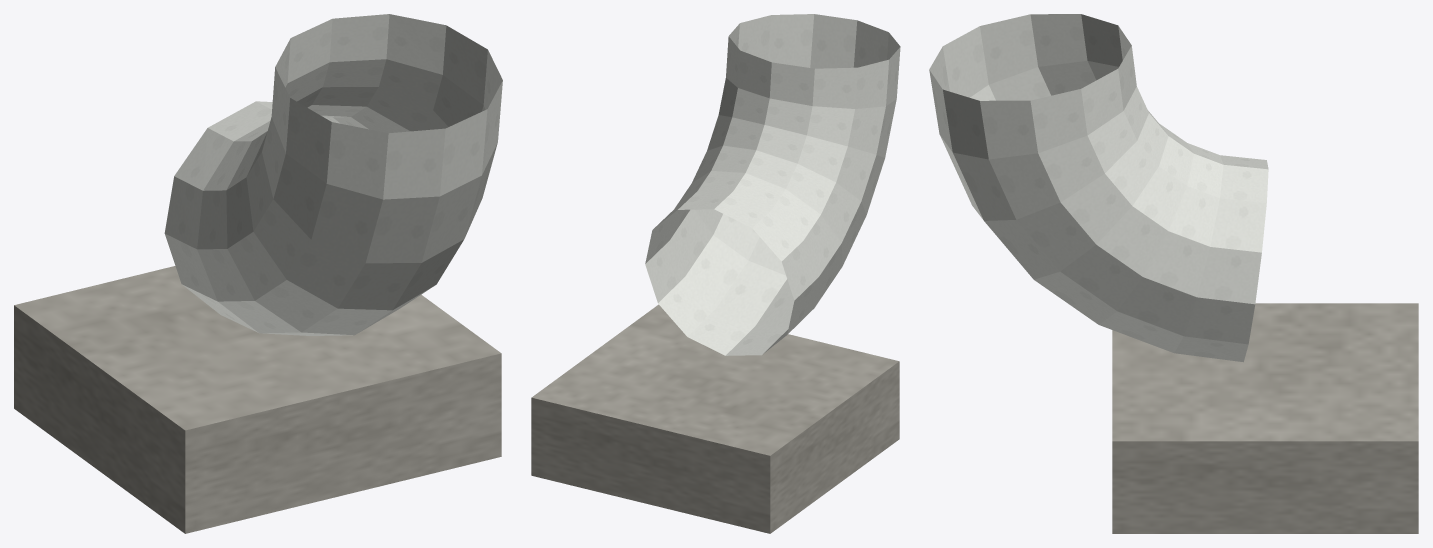
The model's file is body.obj.
3 views of the same model, side by side, from view 1: azimuth 30°, elevation 25°; view 2: azimuth 150°, elevation 25°; view 3: azimuth 270°, elevation 25° (orthographic). The views are drawn at different scales.
Bounding box in the file's own units: 0.32 × 0.4531 × 0.4791.
